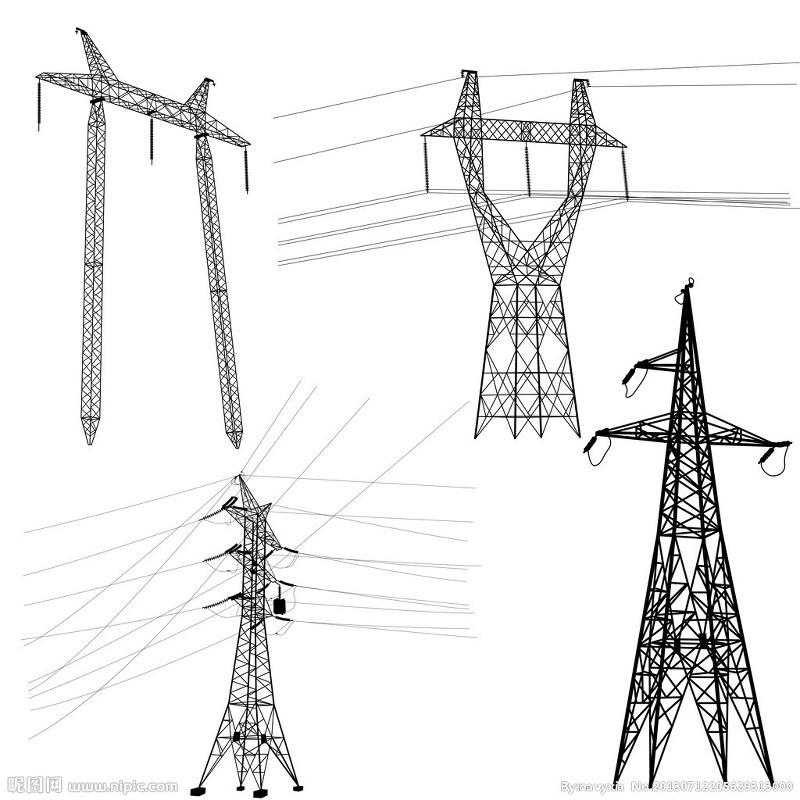power_tower: (28, 20, 266, 449), (597, 275, 780, 774), (409, 47, 614, 433), (207, 469, 301, 797)
